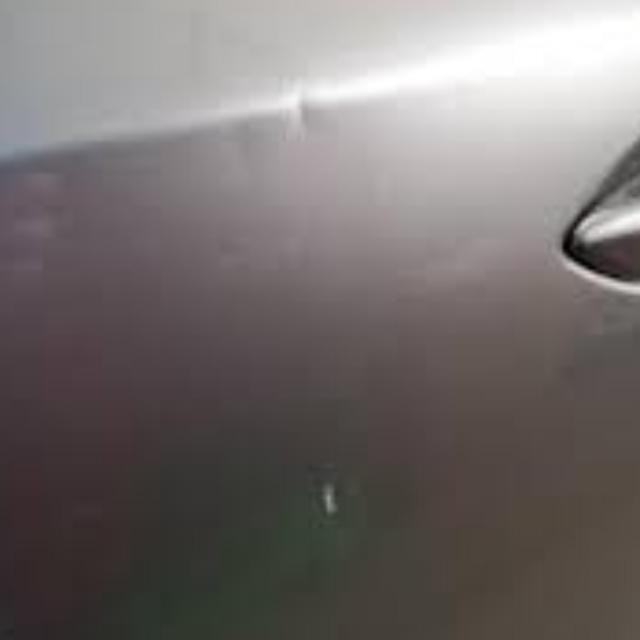dents: (0, 150, 90, 287), (268, 85, 343, 163), (213, 119, 267, 190)
